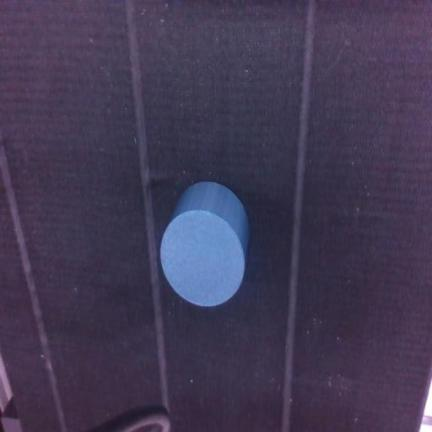cylinder: (161, 182, 248, 306)
